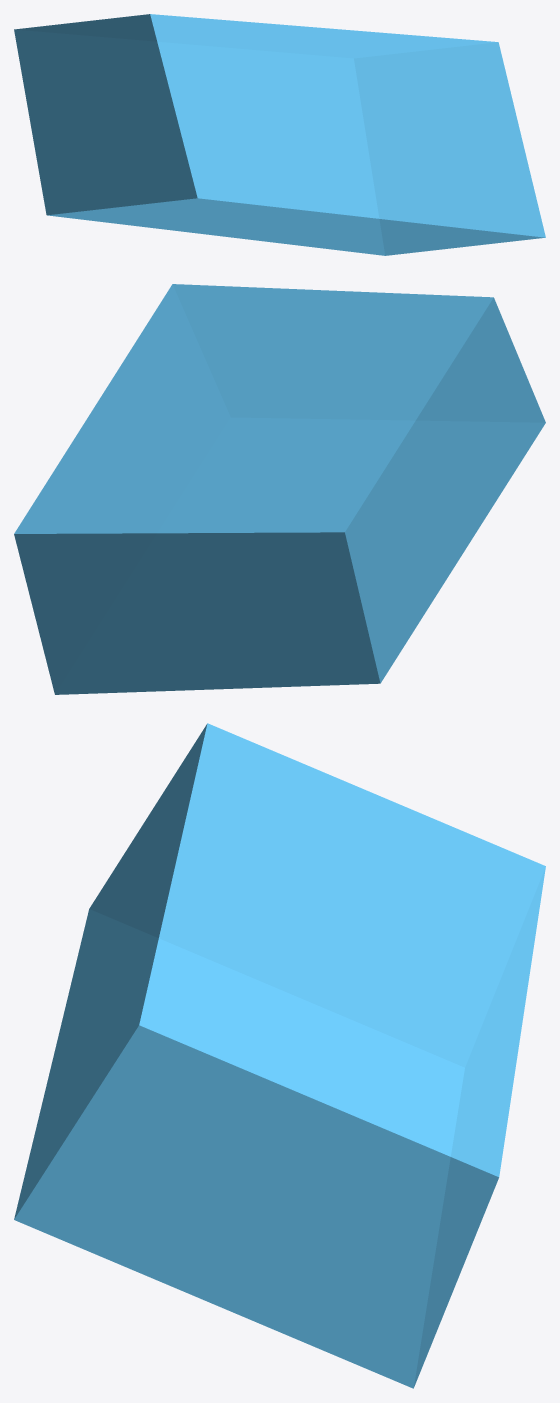
File: Event_420604493_HErechit_20.fbx
The picture shows the model from 3 angles, top to bottom: view 1: azimuth 30°, elevation 25°; view 2: azimuth 150°, elevation 25°; view 3: azimuth 270°, elevation 25°; orthographic projection. The views are drawn at different scales.
Parts seen in each view (by area): view 1: Model; view 2: Model; view 3: Model.
Part boxes in pixels (left/top/right/bottom): Model: left=14, top=14, right=545, bottom=255; Model: left=14, top=284, right=545, bottom=694; Model: left=14, top=723, right=545, bottom=1388.
Size of the model in its own units: 0.6489 by 0.7342 by 0.749.
